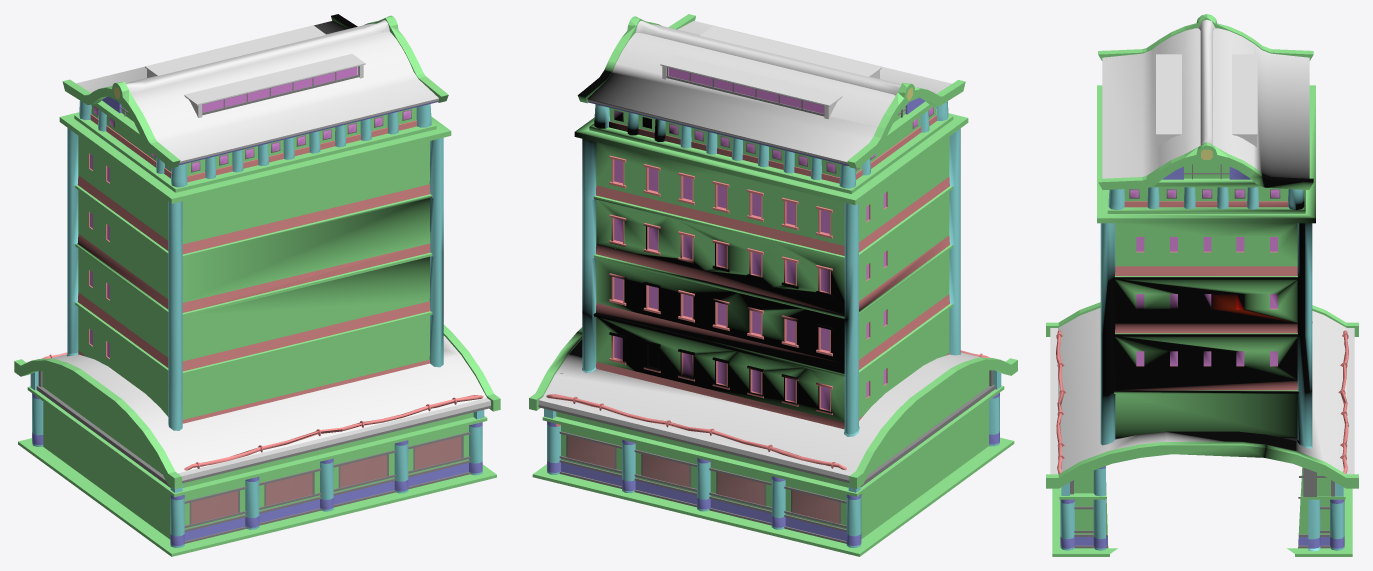
The model's file is SM_ENV_KNVLLG03_AreaA_Building_A.gltf.
3 views of the same model, side by side, from view 1: azimuth 30°, elevation 25°; view 2: azimuth 150°, elevation 25°; view 3: azimuth 270°, elevation 25° (orthographic). The views are drawn at different scales.
Visible parts, largest first — view 1: SM_ENV_KNVLLG03_AreaA_Building_A; view 2: SM_ENV_KNVLLG03_AreaA_Building_A; view 3: SM_ENV_KNVLLG03_AreaA_Building_A.
Boxes of the visible parts, x1,y1,x2,y2 form: SM_ENV_KNVLLG03_AreaA_Building_A: (14,14,500,556); SM_ENV_KNVLLG03_AreaA_Building_A: (529,14,1017,556); SM_ENV_KNVLLG03_AreaA_Building_A: (1046,14,1358,556).
Size of the model in its own units: 35.01 by 42 by 29.8.
